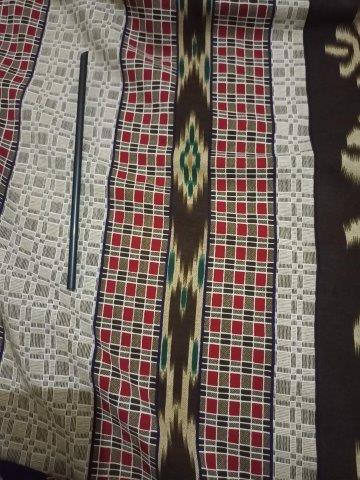sedotan: (67, 51, 89, 290)
